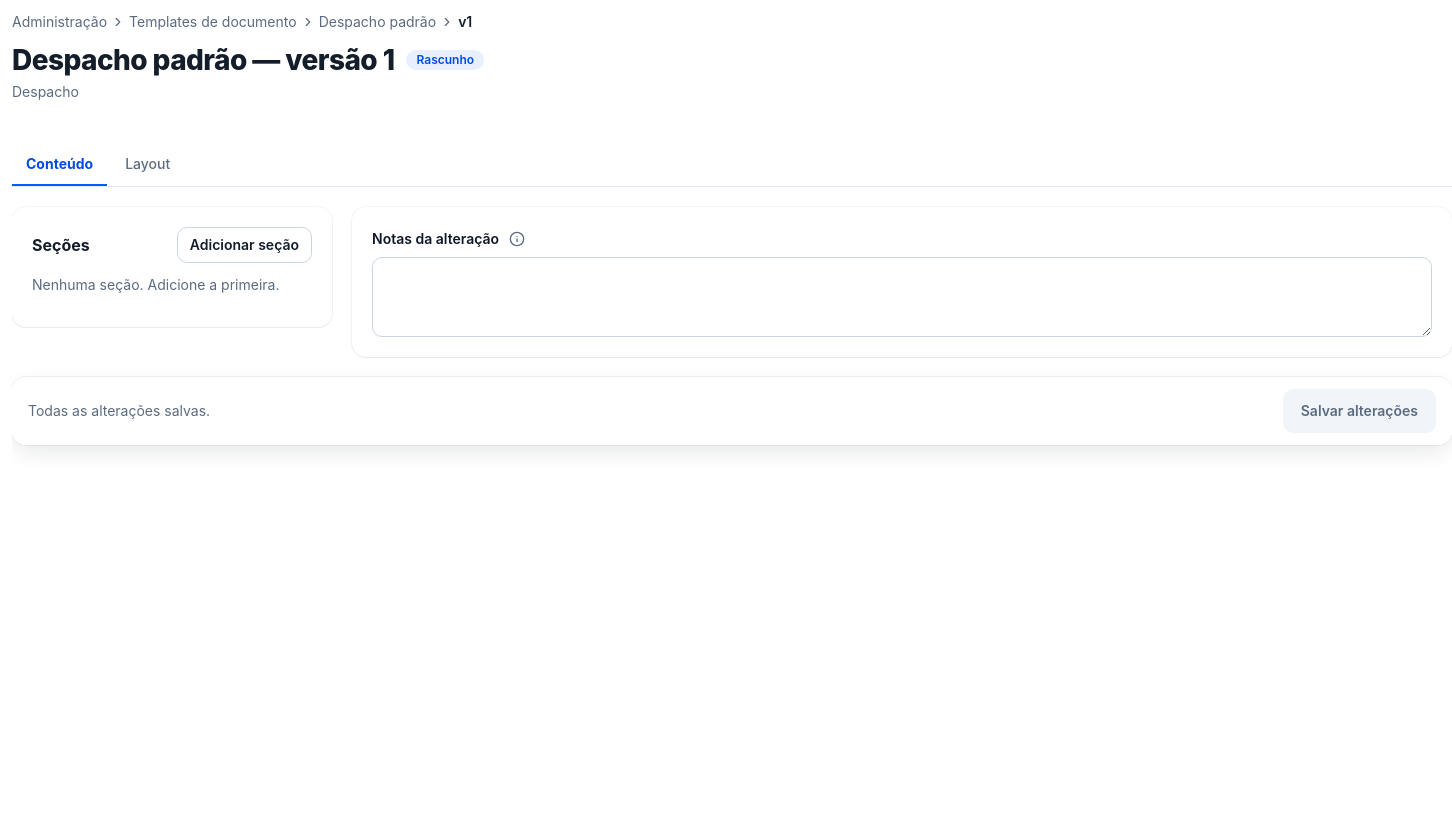
Test: SCR-114 · editor de template (aba Conteúdo) › [Concorrência] 412 oferece recarregar
Step 1. Click the button "Adicionar seção" → (244, 245), box left=177, top=227, right=312, bottom=263
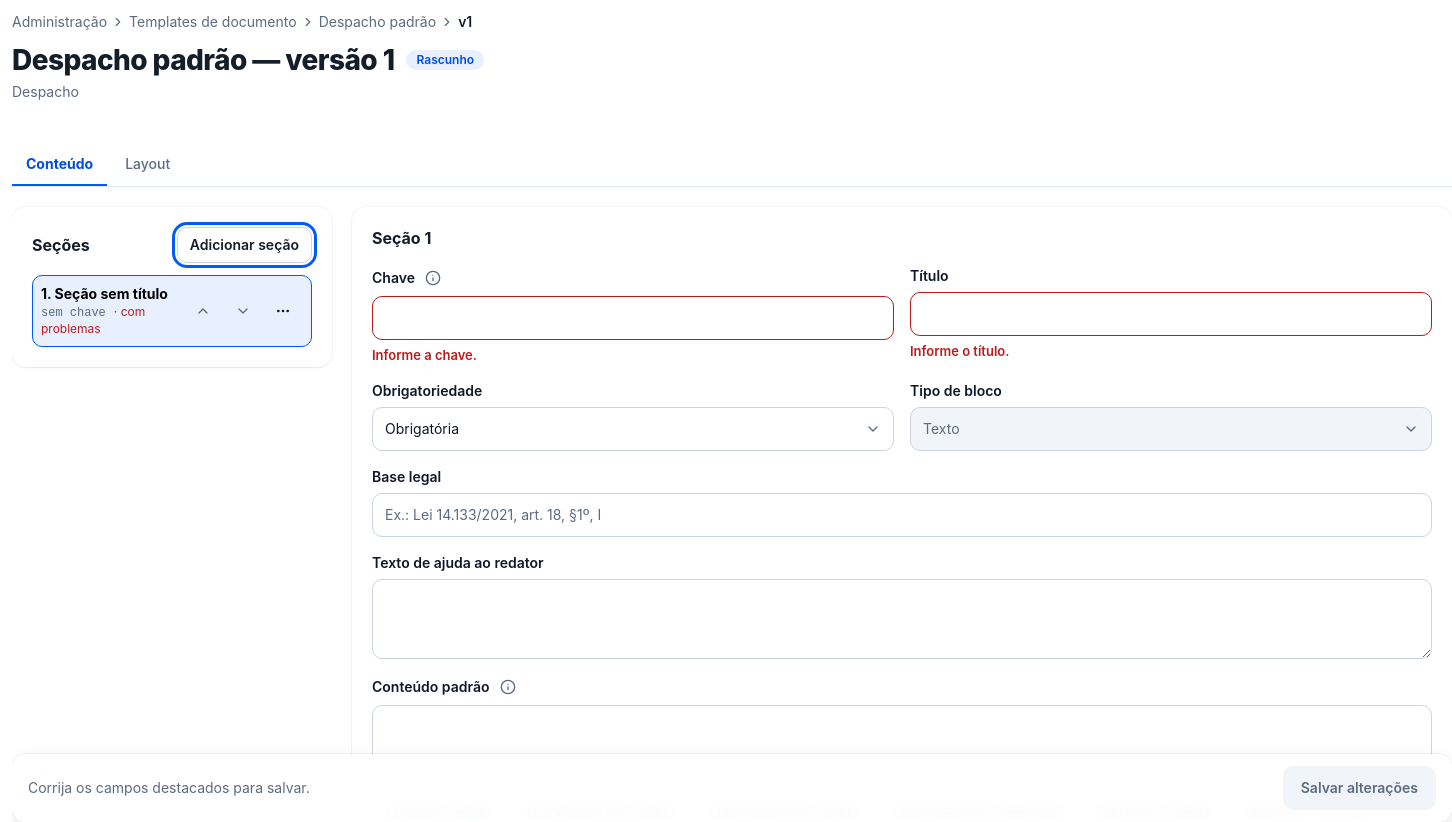
Step 2. Type "A" into the field labelled "Chave" → (633, 318), box left=372, top=296, right=894, bottom=340
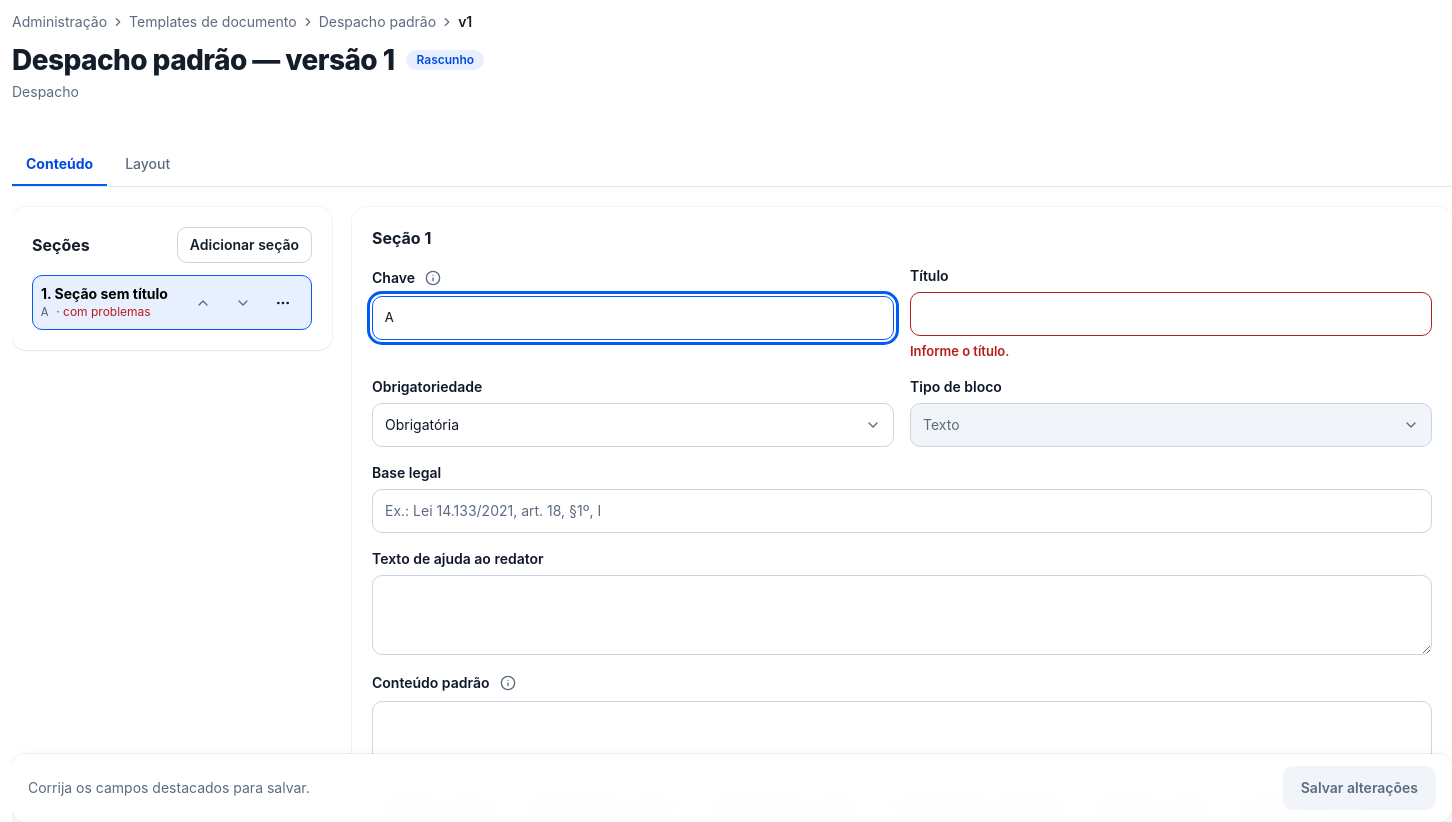
Step 3. Type "A" into the field labelled "Título" → (1171, 314), box left=910, top=292, right=1432, bottom=336
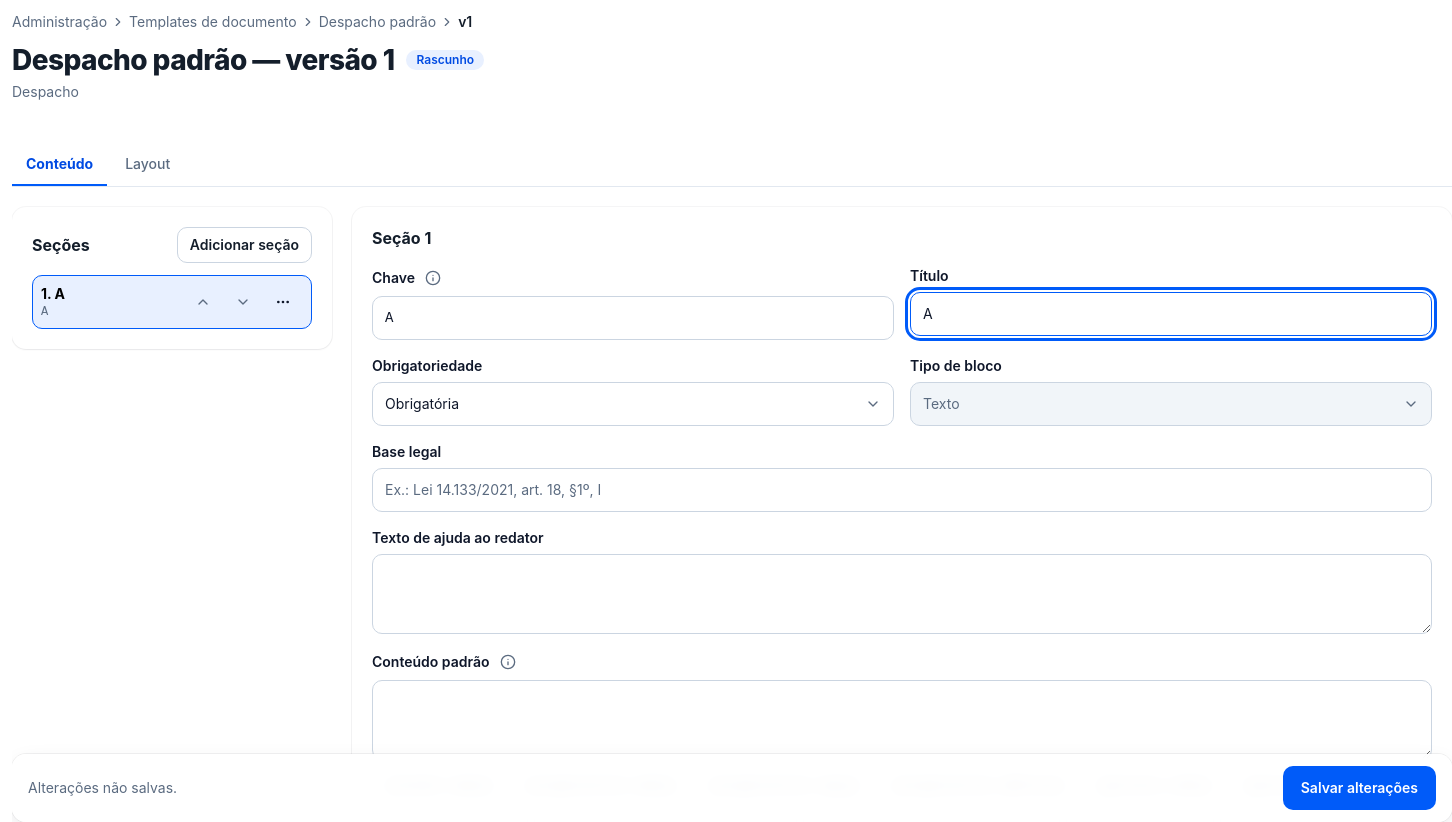
Step 4. Click the button "Salvar alterações" → (1359, 788), box left=1283, top=766, right=1436, bottom=810
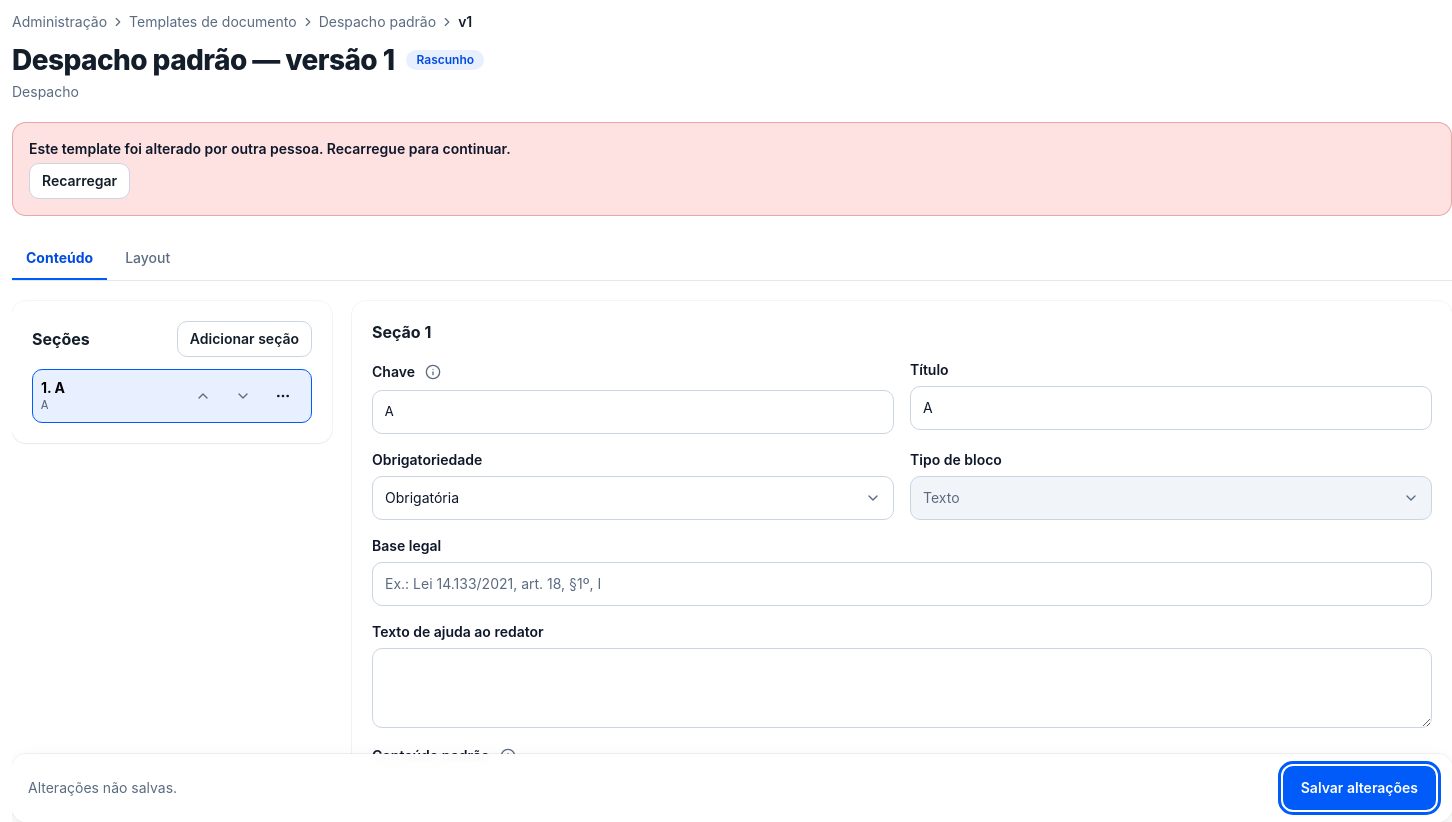
Now the text "Este template foi alterado por outra pessoa. Recarregue para continuar." is shown, box left=29, top=140, right=511, bottom=157
Now the button "Recarregar" is shown, box left=29, top=163, right=130, bottom=199
